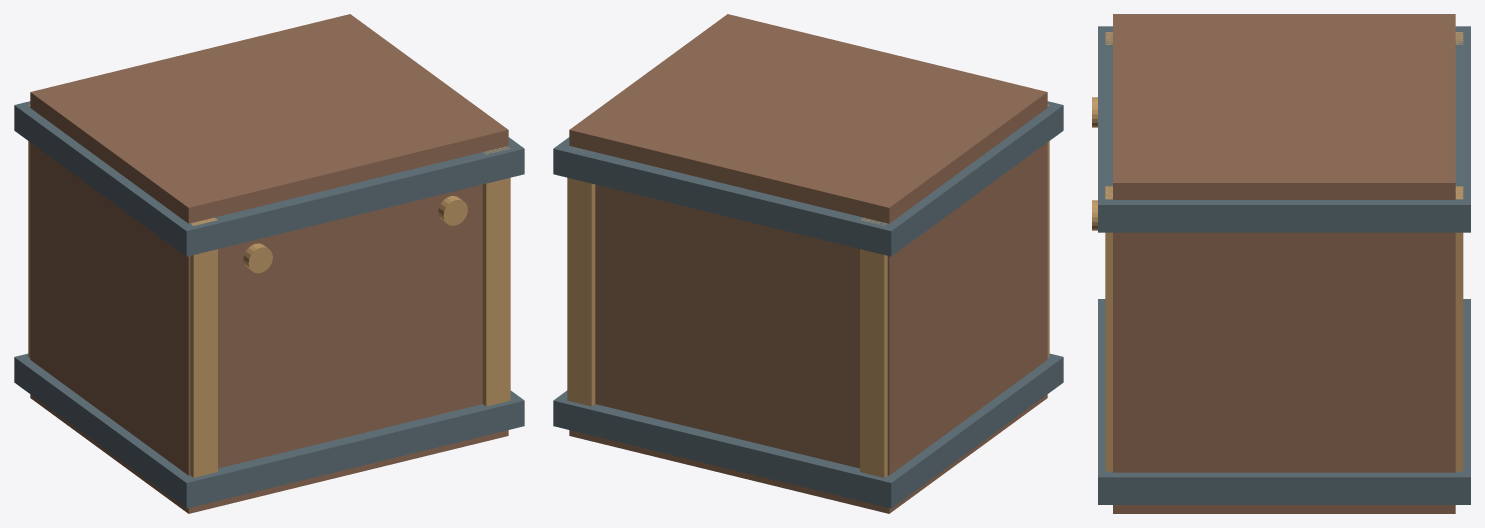
File: CargoCrate.glb
The picture shows the model from 3 angles, left to right: view 1: azimuth 30°, elevation 25°; view 2: azimuth 150°, elevation 25°; view 3: azimuth 270°, elevation 25°; orthographic projection. The views are drawn at different scales.
Visible parts, largest first — view 1: CargoCrate; view 2: CargoCrate; view 3: CargoCrate.
Boxes of the visible parts, left/top/right/bottom form: CargoCrate: left=14, top=14, right=524, bottom=513; CargoCrate: left=553, top=14, right=1063, bottom=513; CargoCrate: left=1092, top=14, right=1470, bottom=513.
Bounding box in the file's own units: 1.11 × 0.96 × 0.995.
